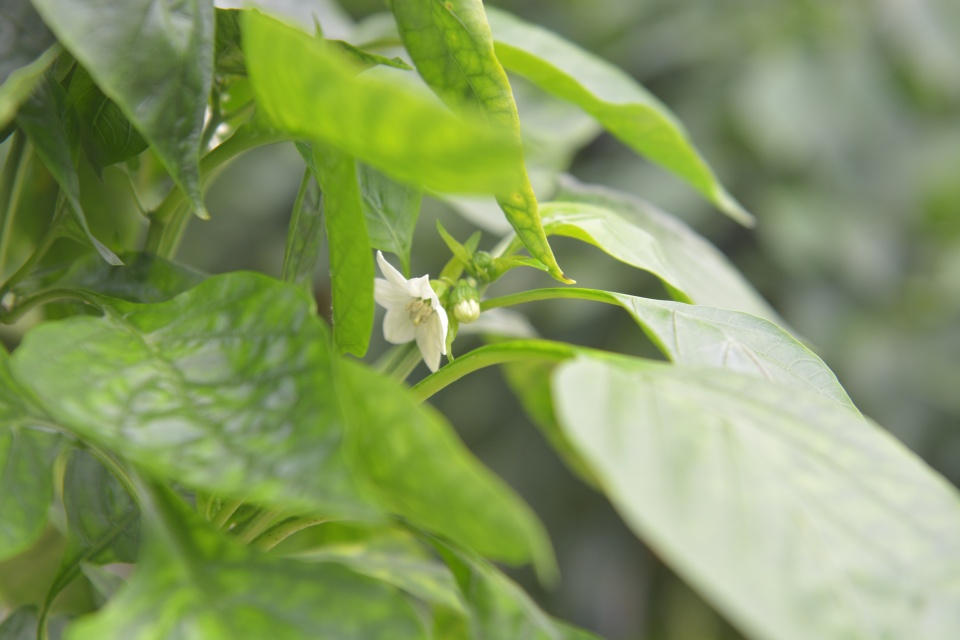flower: (370, 252, 452, 375)
